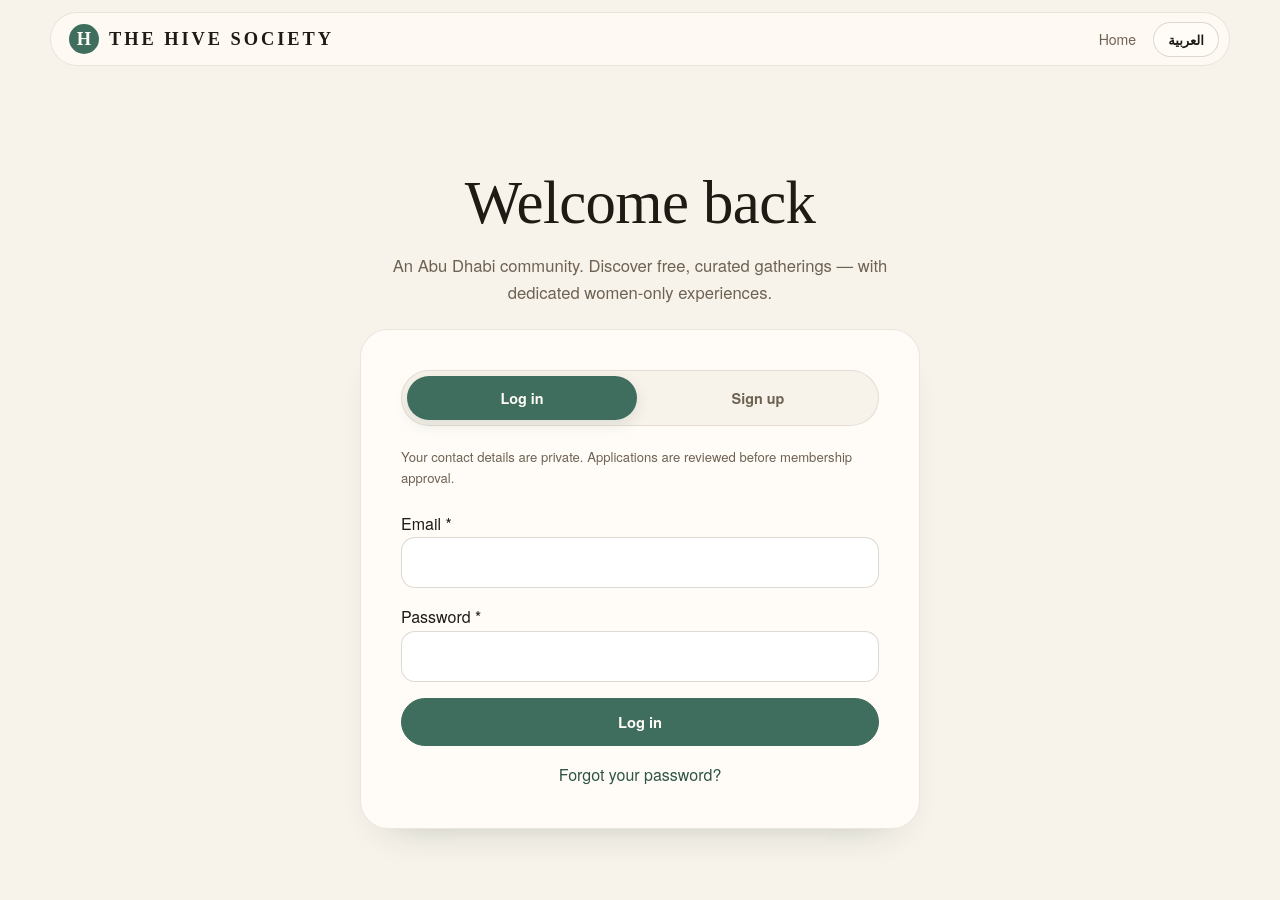
Test: AuthScreen account flows › offers a new confirmation link when the email is unverified
Type "noor@example.test" into the field labelled "Email *" at {"x": 640, "y": 563}, box [401, 537, 879, 588]
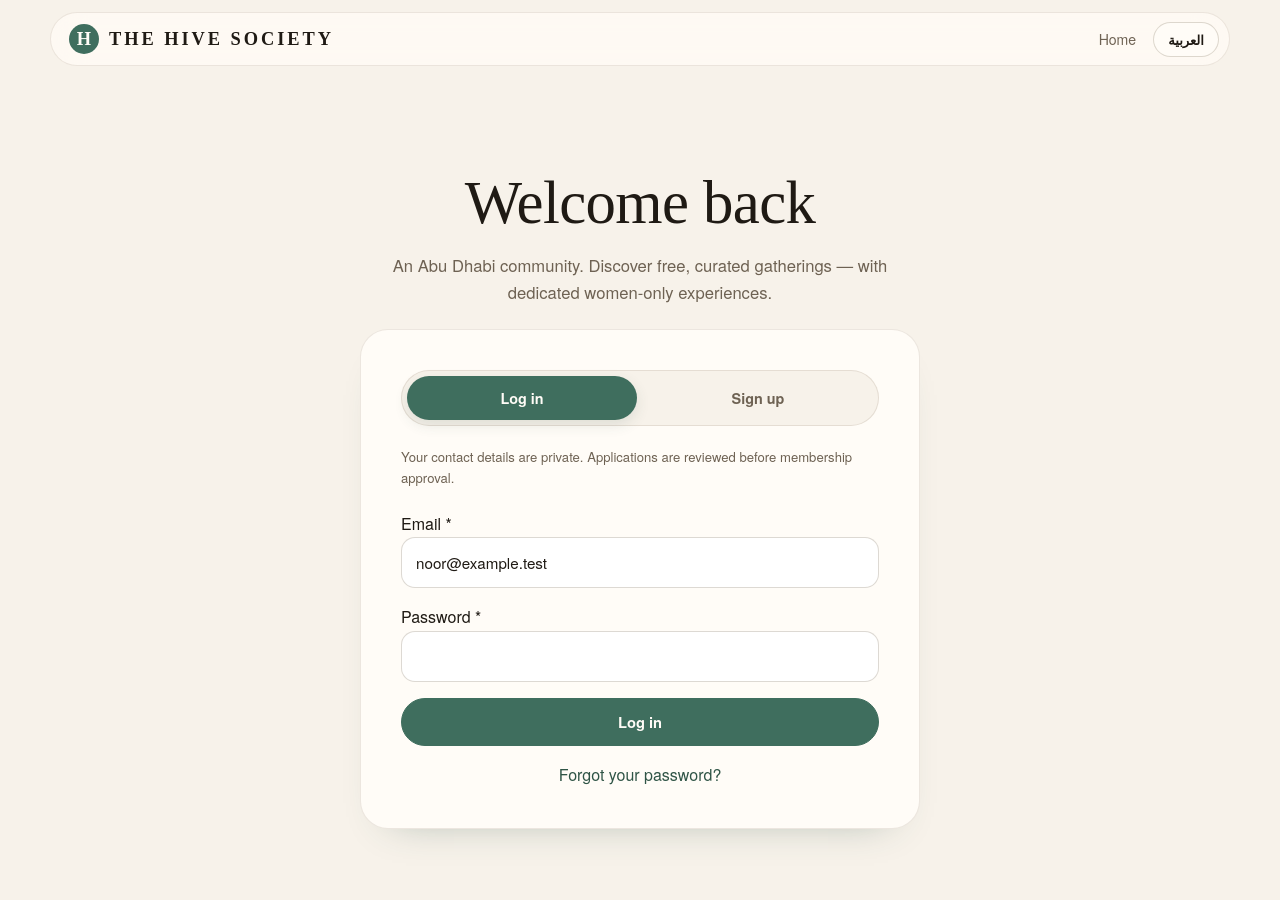
Type "whatever" into the password field labelled "Password *" at {"x": 640, "y": 656}, box [401, 631, 879, 682]
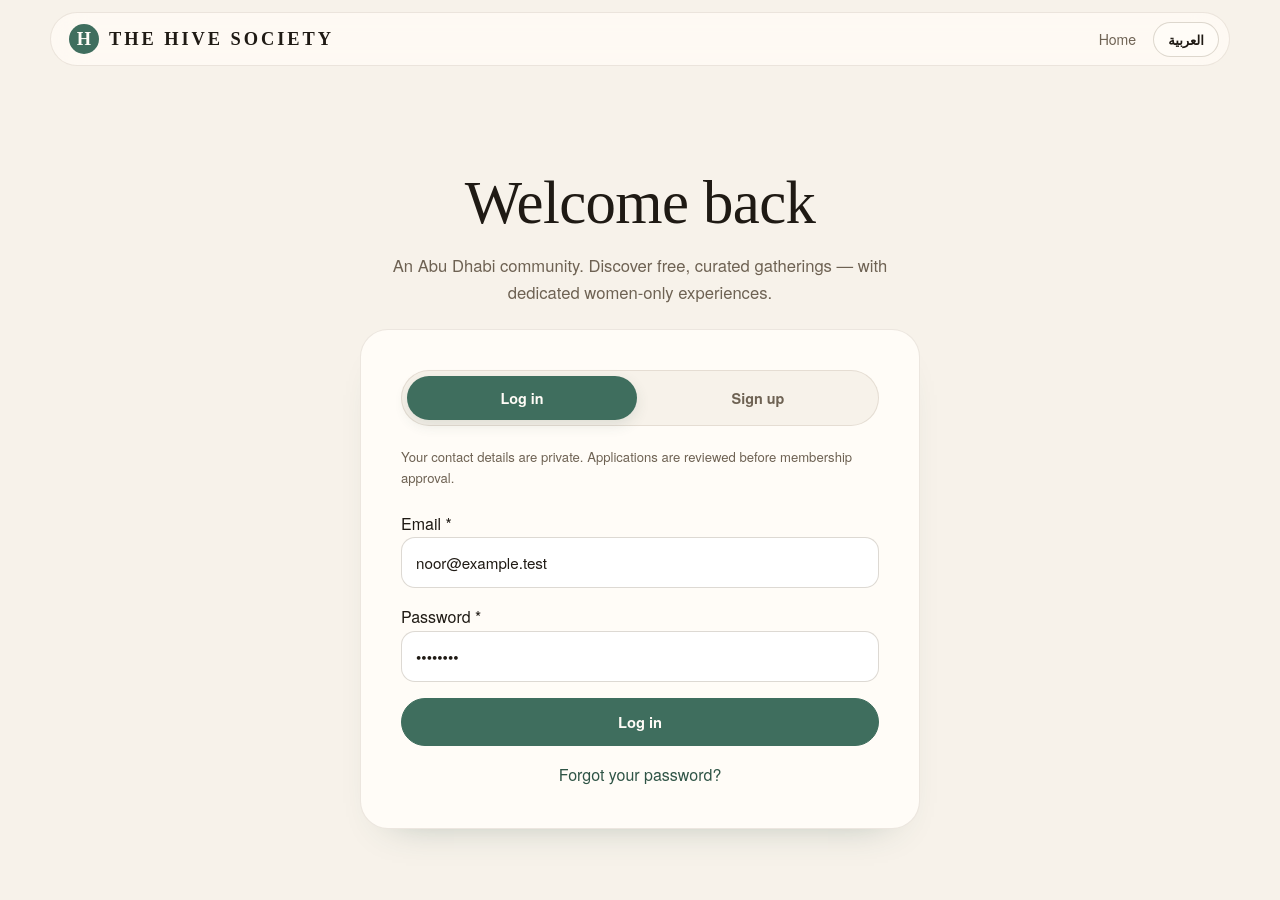
Submit the form labelled "Email * Password * Log in Forgot your password?", box [401, 511, 879, 788]
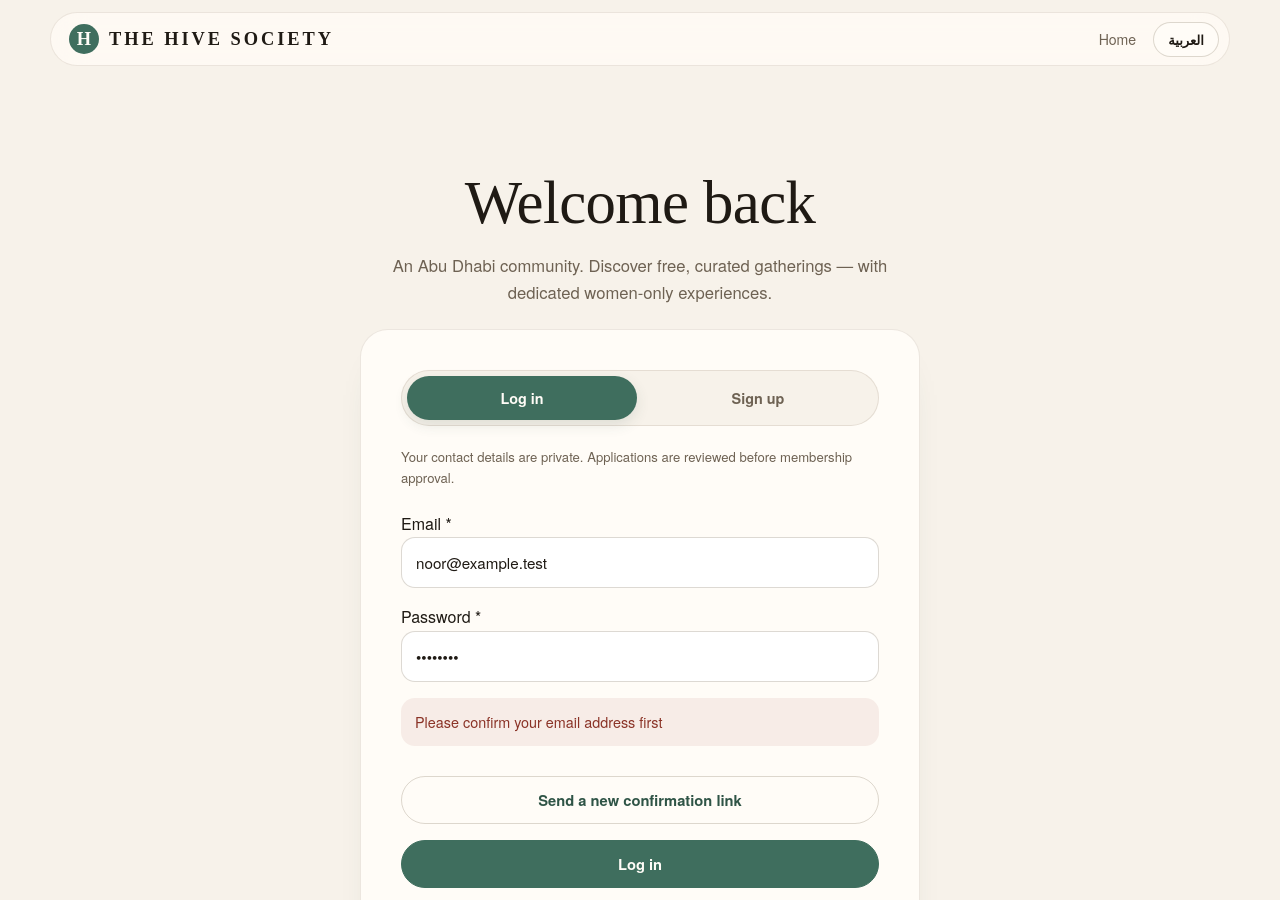
Expected: the button "Send a new confirmation link" is shown, [401, 776, 879, 824]
Expected: the text "Please confirm your email address first" is shown, [401, 698, 879, 746]
